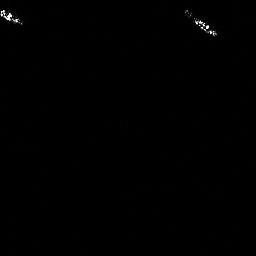ship: (182, 6, 218, 37), (1, 6, 24, 26)
